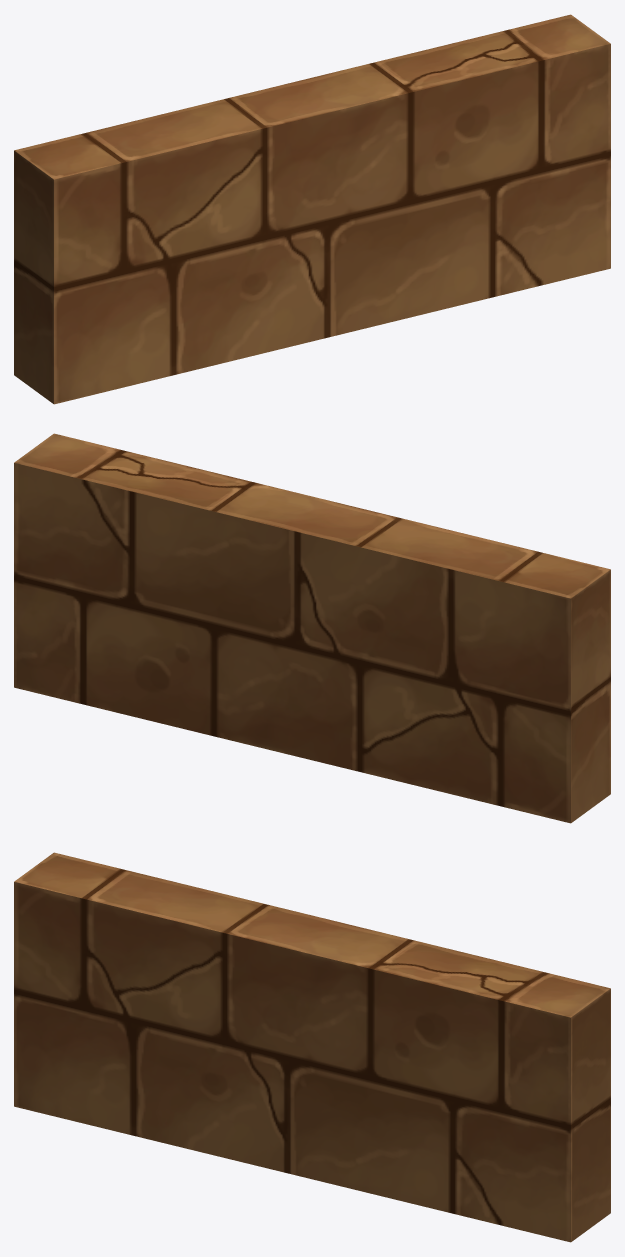
File: td_wall_02.fbx
3 views of the same model, one above another, from view 1: azimuth 30°, elevation 25°; view 2: azimuth 150°, elevation 25°; view 3: azimuth 330°, elevation 25° (orthographic).
Visible parts, largest first — view 1: td_wall_02; view 2: td_wall_02; view 3: td_wall_02.
Part boxes in pixels (bbox=[...]): td_wall_02: bbox=[14, 14, 610, 404]; td_wall_02: bbox=[14, 433, 610, 823]; td_wall_02: bbox=[14, 852, 610, 1242].
Bounding box in the file's own units: 2.5 × 0.964 × 0.3112.
